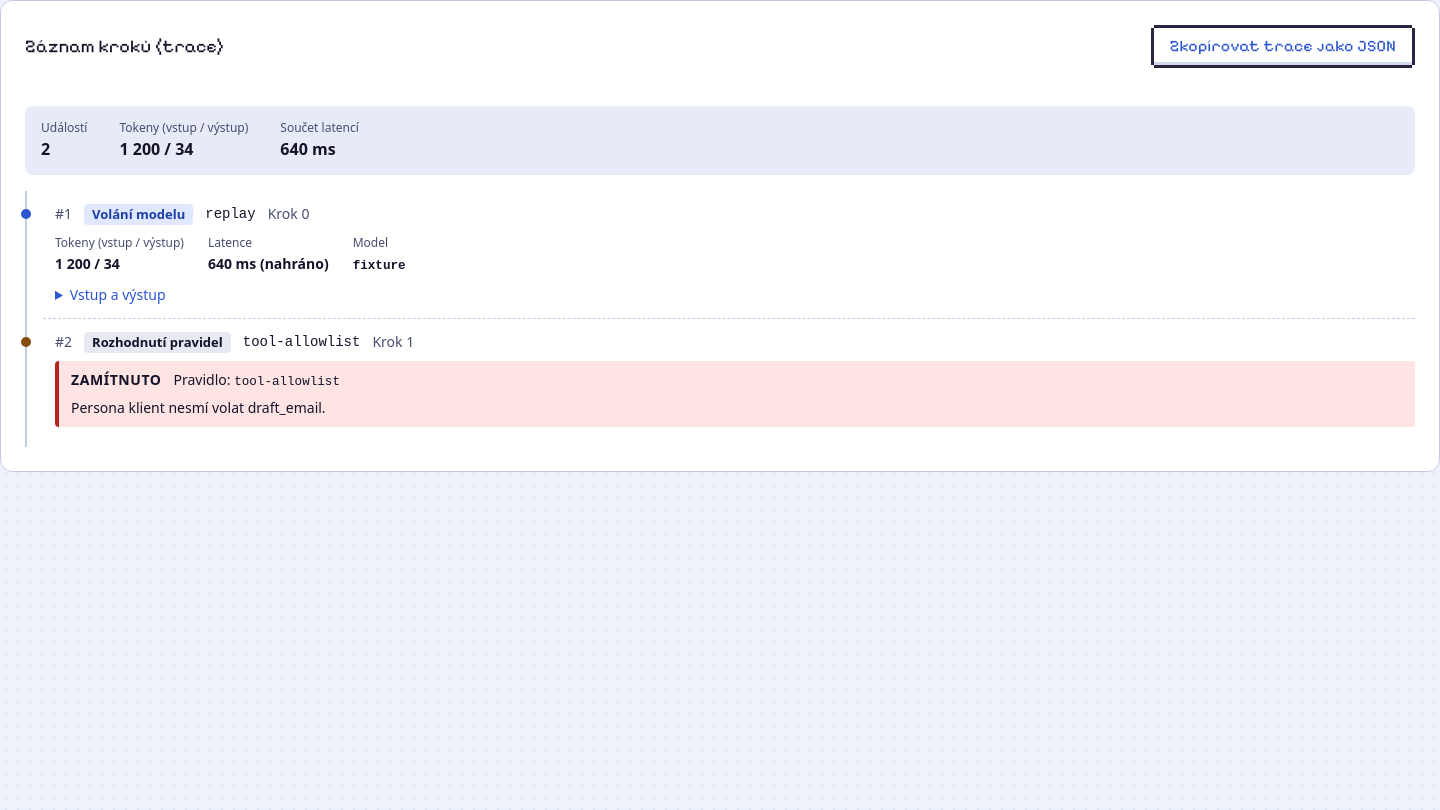
Test: TracePanel › copies the trace as JSON that round-trips to the same events
The width and height of the screenshot is (1440, 810).
Step 1. Click the button "Zkopírovat trace jako JSON" → [1283, 46], box [1154,28,1412,65]
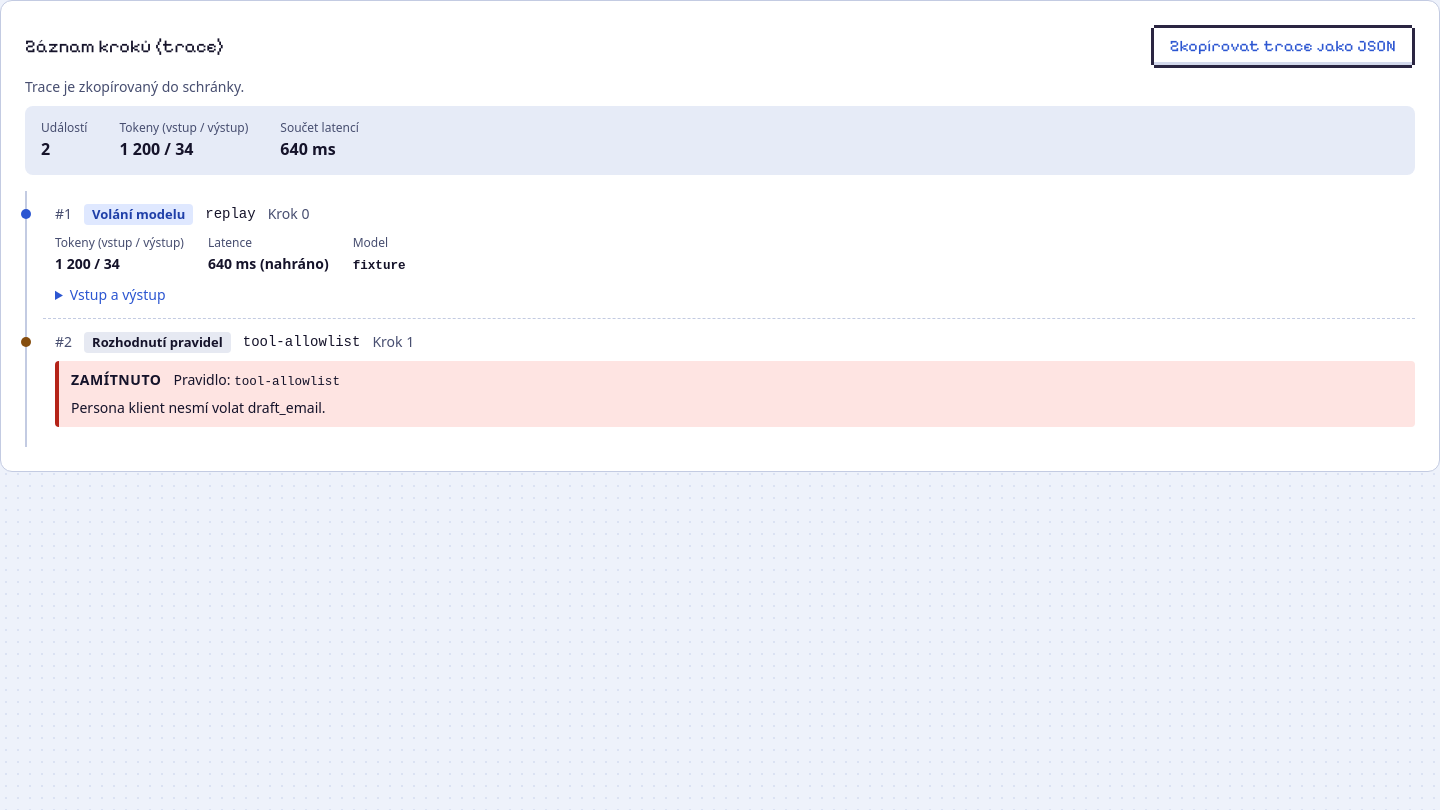
Check: the text "Trace je zkopírovaný do schránky." is shown, box [25,77,244,96]
